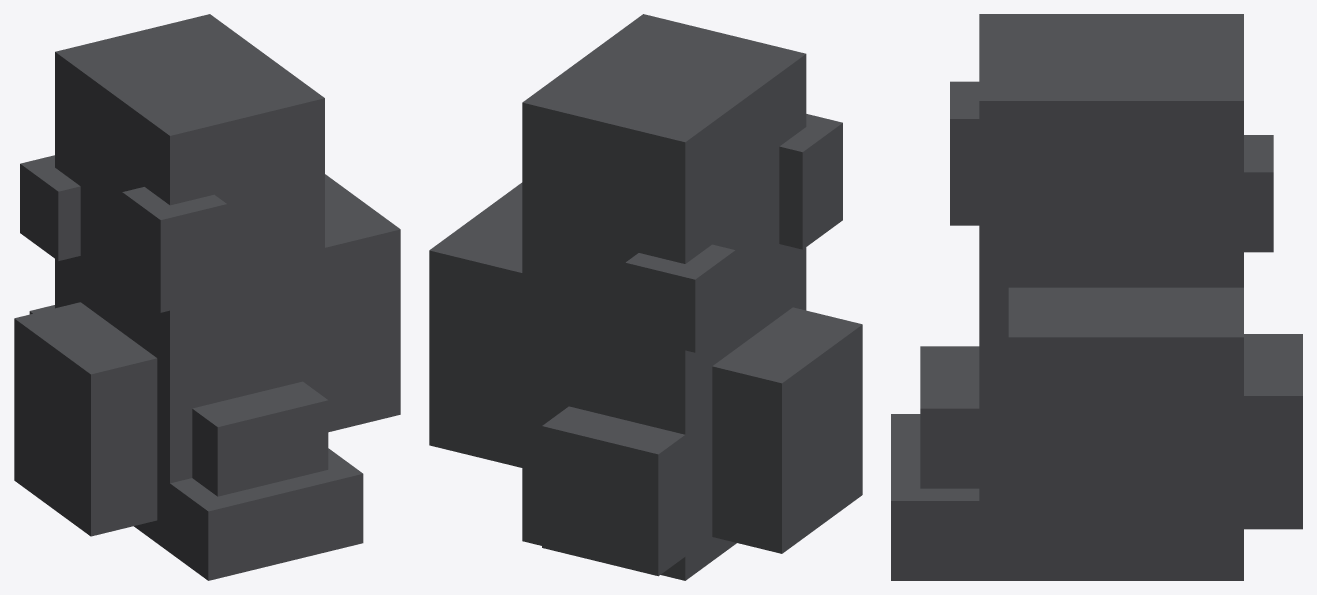
Rendered from rock_2.obj.
The picture shows the model from 3 angles, left to right: view 1: azimuth 30°, elevation 25°; view 2: azimuth 150°, elevation 25°; view 3: azimuth 270°, elevation 25°; orthographic projection. The views are drawn at different scales.
Bounding box in the file's own units: 14 × 18 × 14.
1 material, 1 textured.
